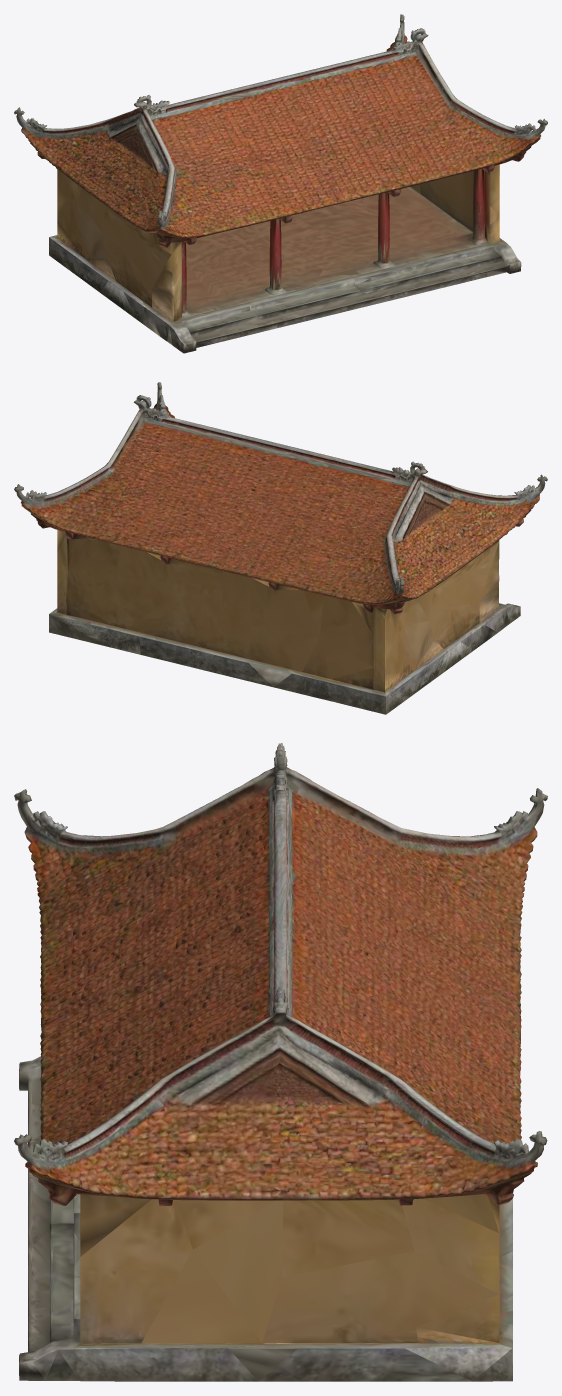
The model's file is ancestor-shell.glb.
The picture shows the model from 3 angles, top to bottom: view 1: azimuth 30°, elevation 25°; view 2: azimuth 150°, elevation 25°; view 3: azimuth 270°, elevation 25°; orthographic projection. The views are drawn at different scales.
Visible parts, largest first — view 1: nhato2; view 2: nhato2; view 3: nhato2.
Part boxes in pixels (<box>): nhato2: <box>14,14,547,353</box>; nhato2: <box>14,382,547,714</box>; nhato2: <box>14,743,547,1381</box>.
Bounding box in the file's own units: 0.9806 × 0.4757 × 0.6344.
1 material, 1 textured.
